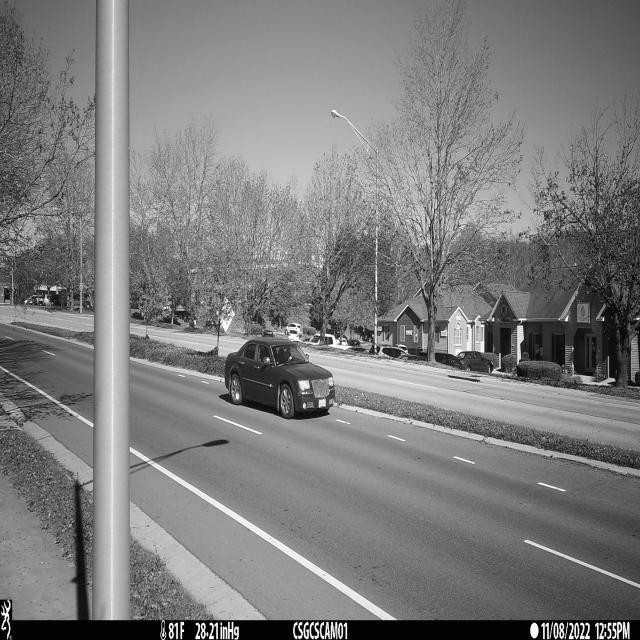Sedan: (225, 339, 336, 419)
